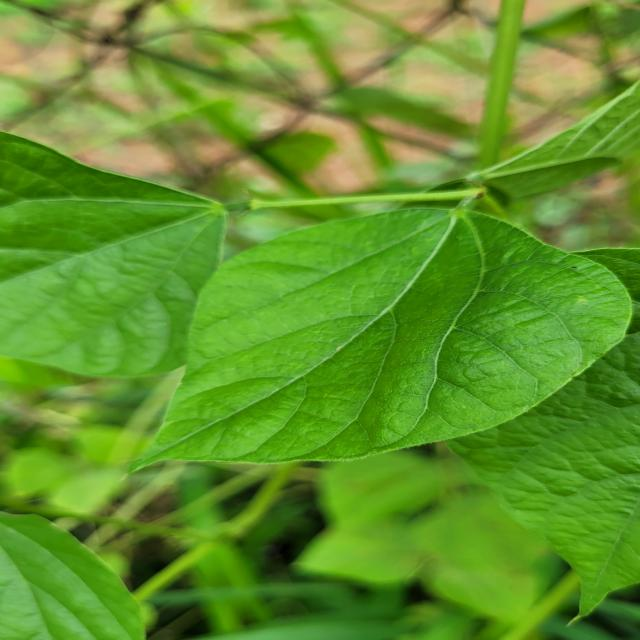Dolicos bean_healthy: (124, 203, 640, 466), (438, 213, 640, 607), (0, 125, 240, 394)
